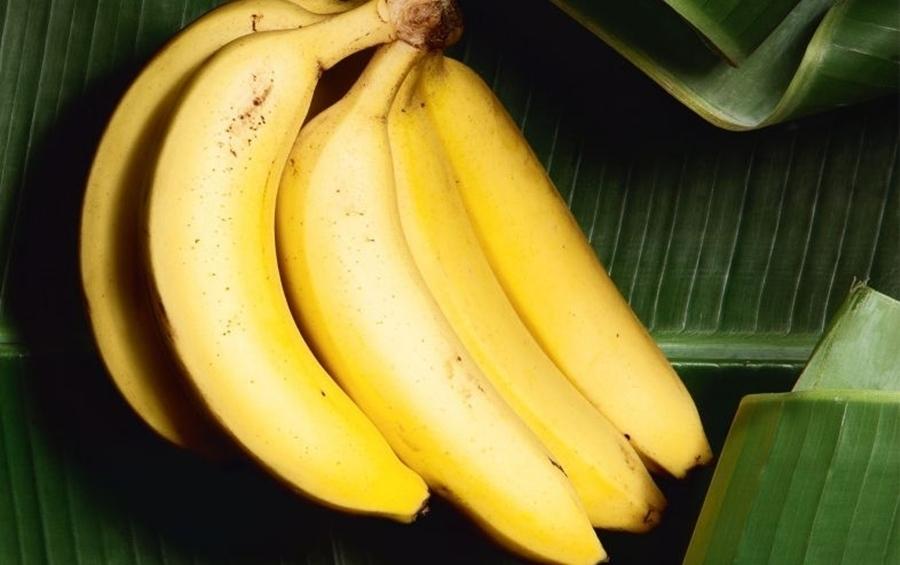banana: (120, 13, 694, 485)
